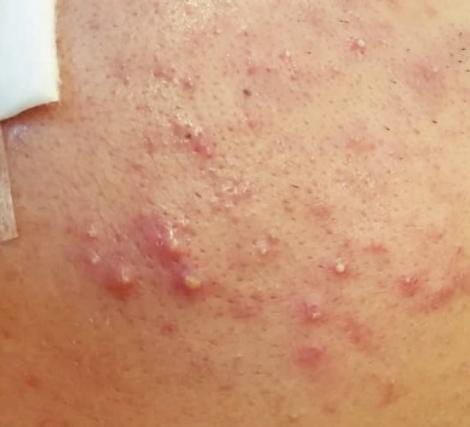blackhead: (175, 119, 229, 169), (209, 187, 267, 216), (218, 348, 252, 379)
cystic: (149, 222, 200, 266)
purulent: (182, 268, 222, 319), (343, 28, 388, 63), (327, 254, 360, 288), (257, 239, 285, 272), (112, 266, 135, 304), (82, 245, 109, 276), (79, 221, 106, 249)
whitehead: (204, 13, 262, 49), (297, 297, 333, 333), (418, 55, 456, 85), (398, 272, 428, 296), (274, 42, 302, 67), (328, 55, 354, 80)
